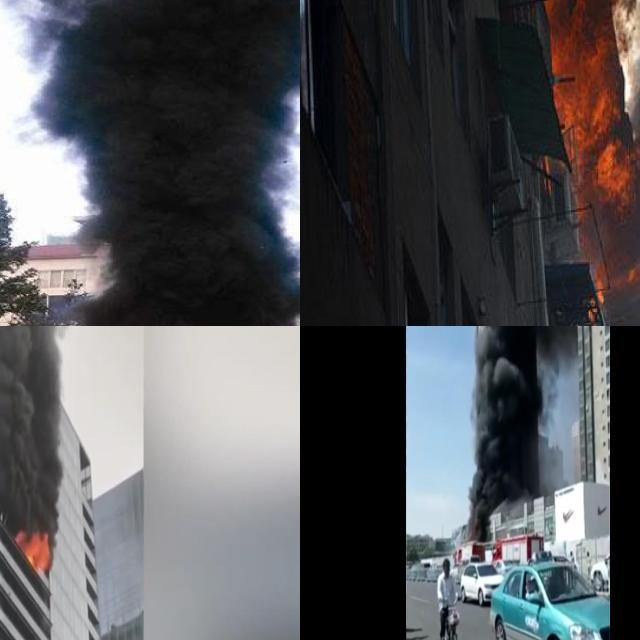fire: (541, 0, 640, 303), (18, 528, 52, 571)
smoke: (7, 0, 300, 326), (468, 326, 579, 529), (0, 326, 69, 539)
